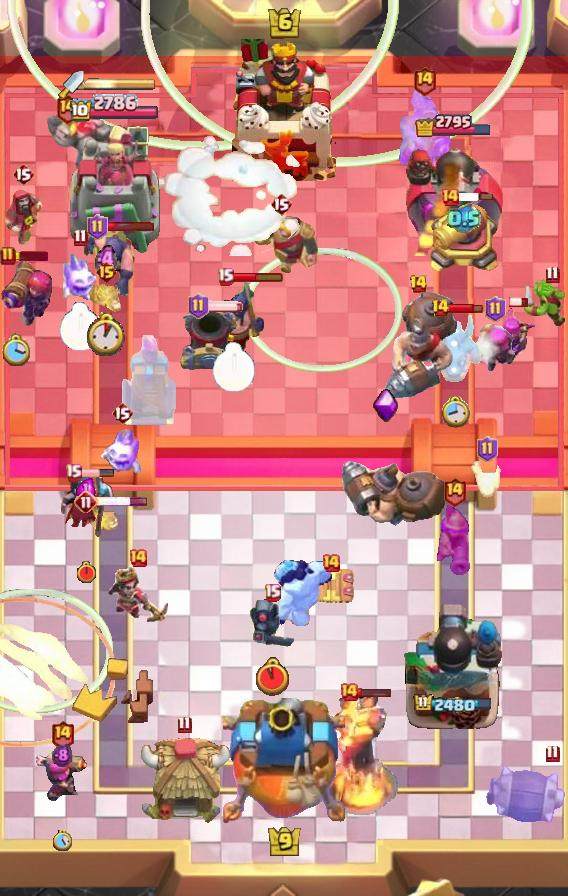archer-evolution: (489, 304, 535, 374)
bar: (231, 271, 284, 283), (96, 496, 149, 507), (105, 221, 155, 232), (206, 300, 244, 312), (448, 302, 483, 314), (357, 687, 392, 698), (79, 468, 115, 478), (12, 251, 48, 261), (458, 192, 494, 202), (509, 296, 529, 308)
bar-level: (50, 719, 75, 750), (442, 476, 467, 507), (55, 93, 80, 124), (412, 65, 437, 96), (74, 490, 98, 514), (95, 260, 118, 284), (477, 436, 498, 462), (485, 296, 506, 322), (188, 293, 209, 319), (87, 214, 108, 240), (111, 401, 133, 425), (270, 192, 292, 216), (12, 162, 34, 186), (339, 682, 359, 702), (321, 553, 341, 573), (128, 548, 148, 568), (440, 187, 460, 207), (431, 298, 450, 318), (409, 274, 428, 294), (264, 583, 281, 602), (65, 463, 82, 482), (217, 267, 234, 286), (0, 246, 16, 266), (545, 744, 560, 763), (177, 715, 192, 734), (545, 265, 560, 284), (73, 228, 88, 247)
barbarian-barrel: (484, 763, 568, 825)
cannoneer-tower: (403, 601, 503, 731), (403, 138, 504, 256)
clock: (212, 342, 256, 393), (59, 302, 102, 352), (85, 312, 128, 357), (256, 657, 289, 696), (1, 333, 30, 368), (441, 396, 470, 429), (76, 561, 97, 584), (53, 830, 72, 851)
dagger-duchess-tower: (67, 122, 161, 256)
dagger-duchess-tower-bar: (84, 77, 156, 91)
electro-dragon: (428, 312, 482, 384)
elixir: (447, 204, 481, 234), (95, 244, 117, 278), (52, 743, 72, 768), (76, 477, 96, 502)
evolution-symbol: (372, 388, 398, 422)
executioner: (203, 275, 265, 353), (82, 228, 136, 298)
firecracker: (33, 749, 91, 803), (475, 321, 516, 375)
firecracker-evolution: (396, 88, 452, 180), (0, 254, 54, 328)
goblin: (522, 279, 568, 329)
golemite: (45, 110, 121, 178)
ice-spirit-evolution: (101, 426, 143, 476), (60, 251, 100, 303)
king-tower: (223, 698, 345, 826), (232, 39, 336, 181)
knight: (243, 215, 319, 274)
lava-pup: (470, 461, 504, 499), (88, 281, 124, 313), (87, 507, 121, 533)
little-prince: (106, 565, 170, 625)
mini-pekka: (247, 596, 297, 650)
mortar: (178, 306, 240, 374)
musketeer: (434, 500, 474, 576)
night-witch: (57, 469, 115, 539)
tesla: (307, 565, 355, 607)
tower-bar: (69, 94, 160, 124), (414, 112, 493, 137), (413, 693, 493, 715)
wizard: (2, 188, 44, 246)
